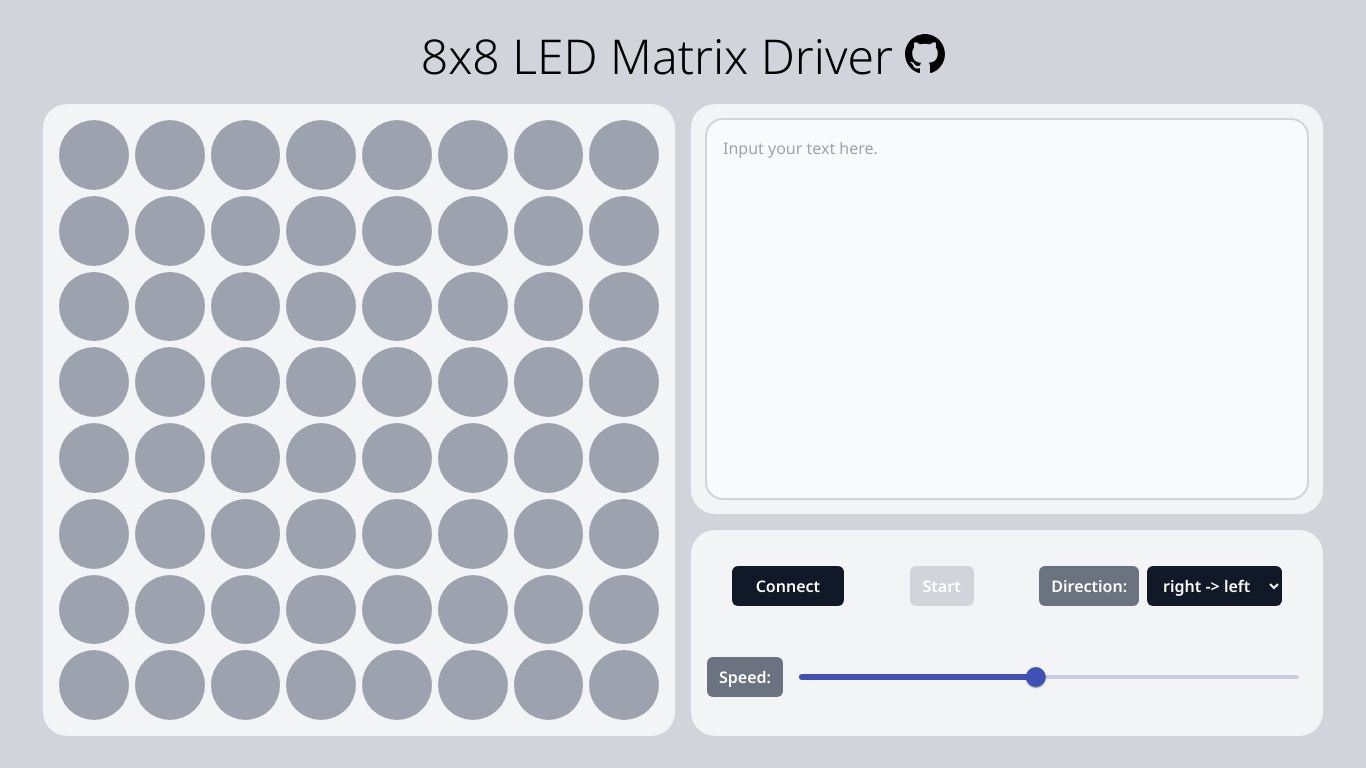
LED-MATRIX › Connects to serial port
The image size is (1366, 768).
Check: the button "Start" is disabled, box [910, 566, 974, 606]
Note: Connect to serial port
Click the button "Connect" at (788, 586), box [732, 566, 844, 606]
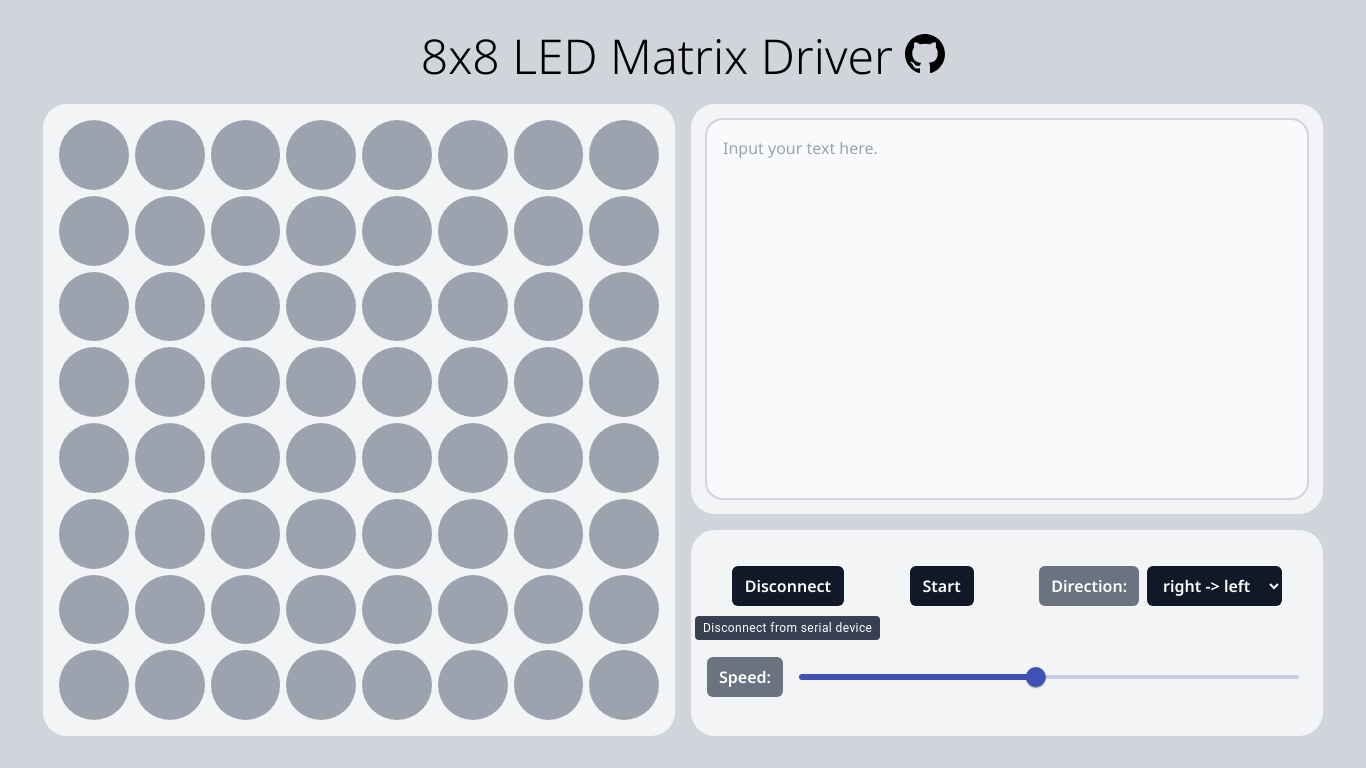
Check: the button "Disconnect" is shown, box [732, 566, 844, 606]
Check: the button "Start" is enabled, box [910, 566, 974, 606]
